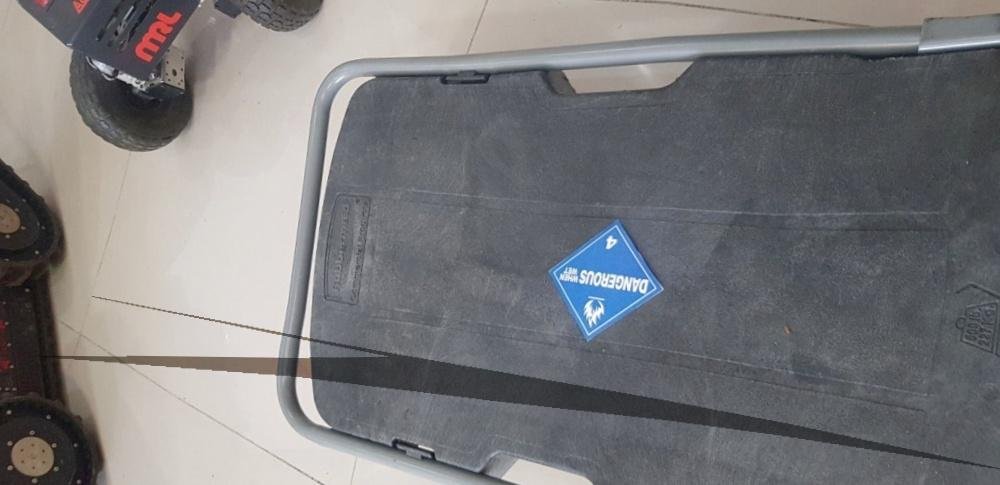dangerous-when-wet: (542, 218, 668, 344)
